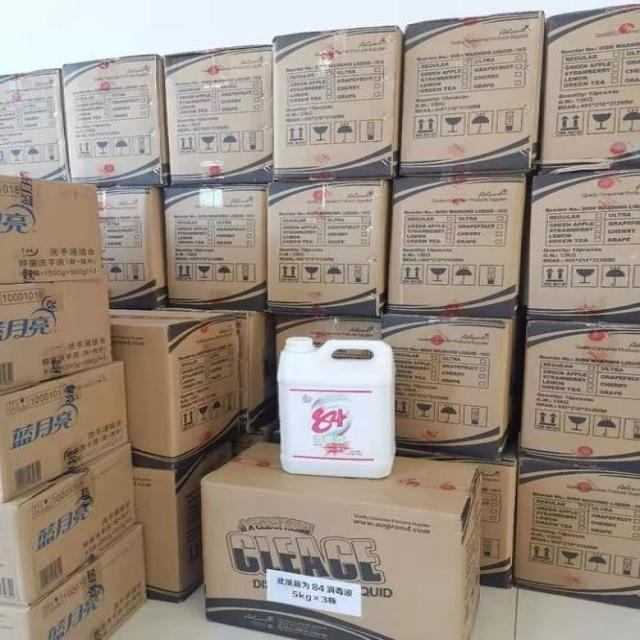box: (200, 440, 482, 639), (402, 11, 546, 175), (0, 442, 136, 607), (109, 308, 242, 470), (272, 25, 407, 183), (386, 176, 527, 318), (382, 317, 518, 460), (512, 456, 639, 609), (516, 321, 639, 473), (520, 171, 639, 323), (0, 362, 124, 505), (0, 523, 148, 639), (538, 4, 639, 173), (266, 180, 389, 318), (134, 442, 236, 603), (162, 45, 274, 186), (62, 54, 170, 186), (419, 440, 514, 588), (162, 184, 267, 313), (0, 279, 114, 392), (0, 177, 105, 287), (97, 185, 163, 309), (0, 68, 69, 184), (271, 314, 382, 362), (237, 311, 277, 435)
